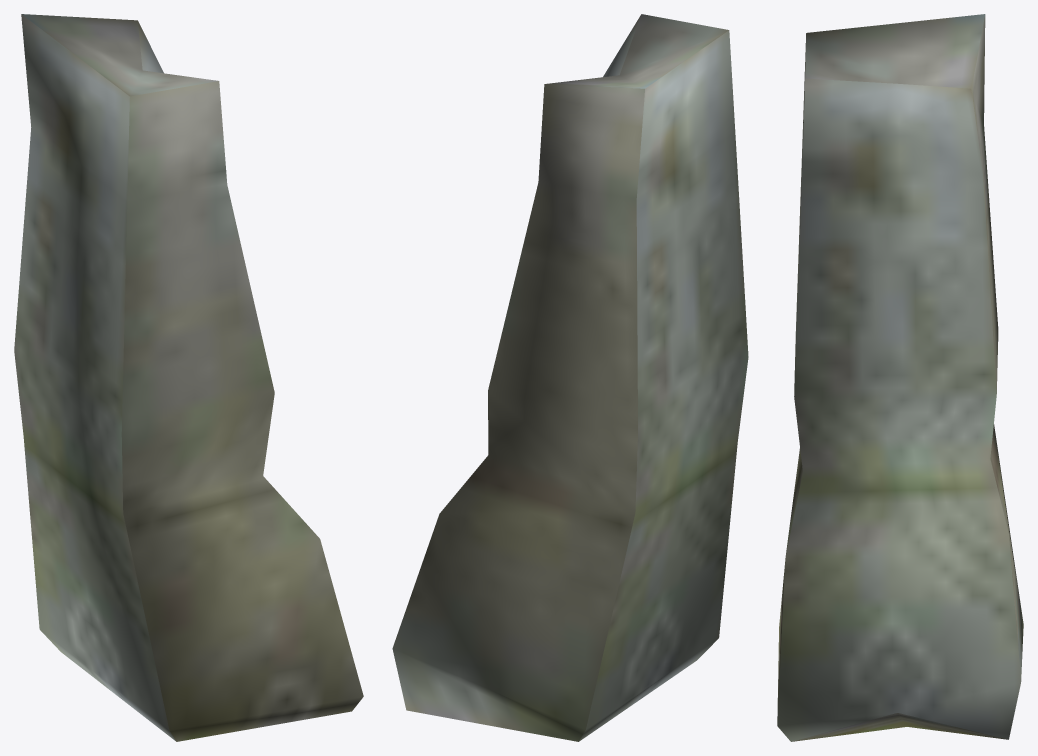
Rendered from h5_shitouzhu_c.FBX.
3 views of the same model, side by side, from view 1: azimuth 30°, elevation 25°; view 2: azimuth 150°, elevation 25°; view 3: azimuth 270°, elevation 25° (orthographic). The views are drawn at different scales.
Parts seen in each view (by area): view 1: h5_shitouzhu_c; view 2: h5_shitouzhu_c; view 3: h5_shitouzhu_c.
Part boxes in pixels (x1,y1,x2,y2): h5_shitouzhu_c: [14, 14, 363, 741]; h5_shitouzhu_c: [392, 14, 748, 741]; h5_shitouzhu_c: [777, 14, 1023, 741].
Size of the model in its own units: 2.2 by 6.24 by 2.14.
